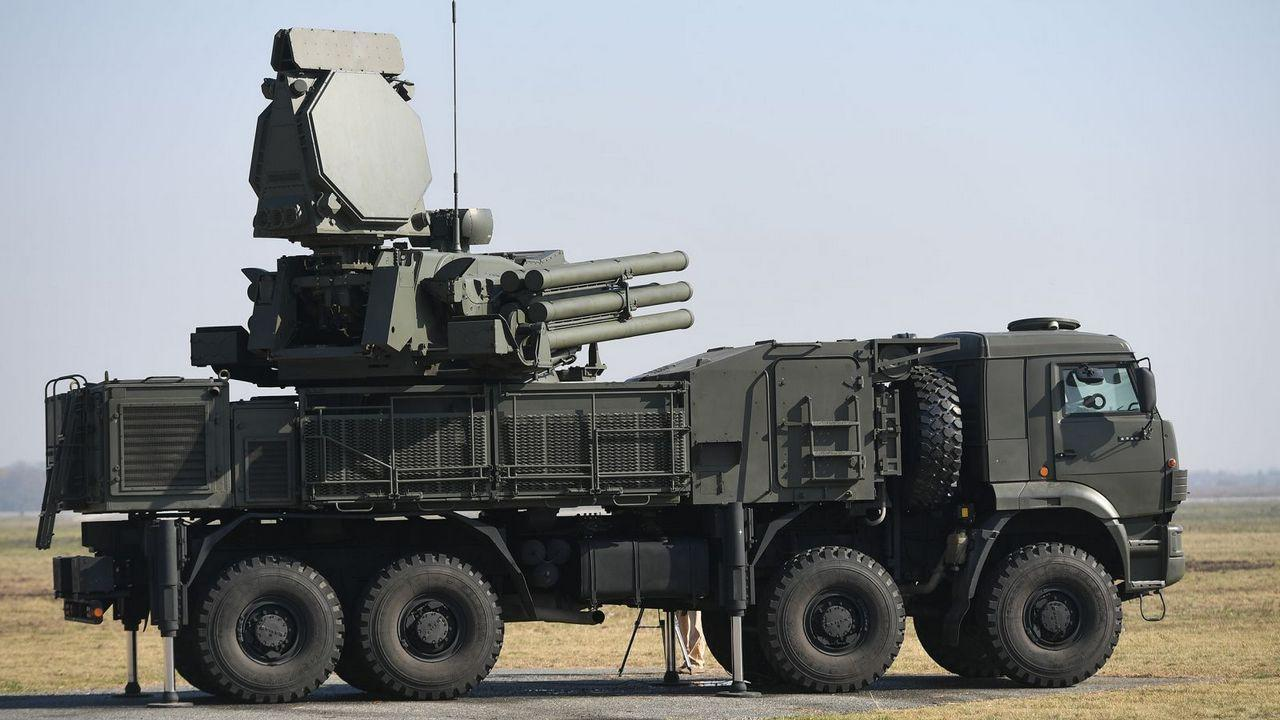truck: (26, 14, 1221, 698)
